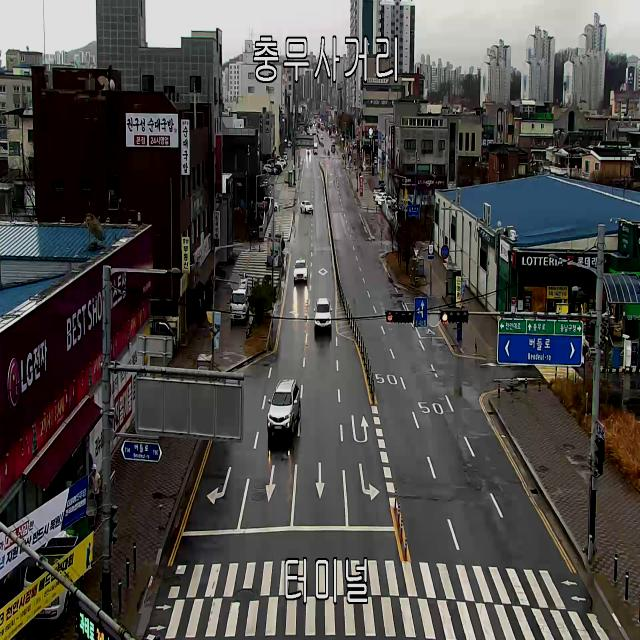Car: (267, 378, 301, 434), (229, 289, 250, 321), (314, 298, 332, 328), (232, 272, 248, 293), (293, 258, 308, 280), (378, 195, 397, 207), (264, 196, 278, 211), (300, 200, 314, 213), (262, 164, 278, 174), (376, 192, 388, 202), (373, 188, 385, 197), (277, 159, 286, 169), (314, 142, 318, 155), (283, 152, 288, 161), (306, 148, 312, 155), (331, 145, 336, 152), (374, 156, 377, 164), (321, 134, 324, 138)
Truck: (24, 536, 80, 620), (148, 317, 174, 352)
